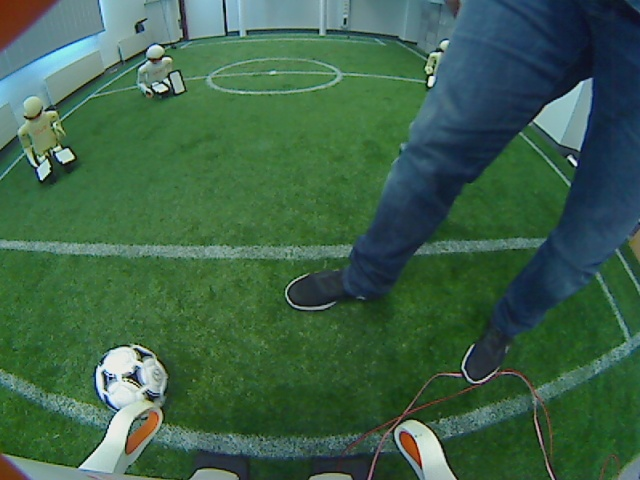ball: (93, 343, 173, 416)
robot: (15, 95, 82, 184), (133, 41, 188, 102), (422, 34, 448, 97)
